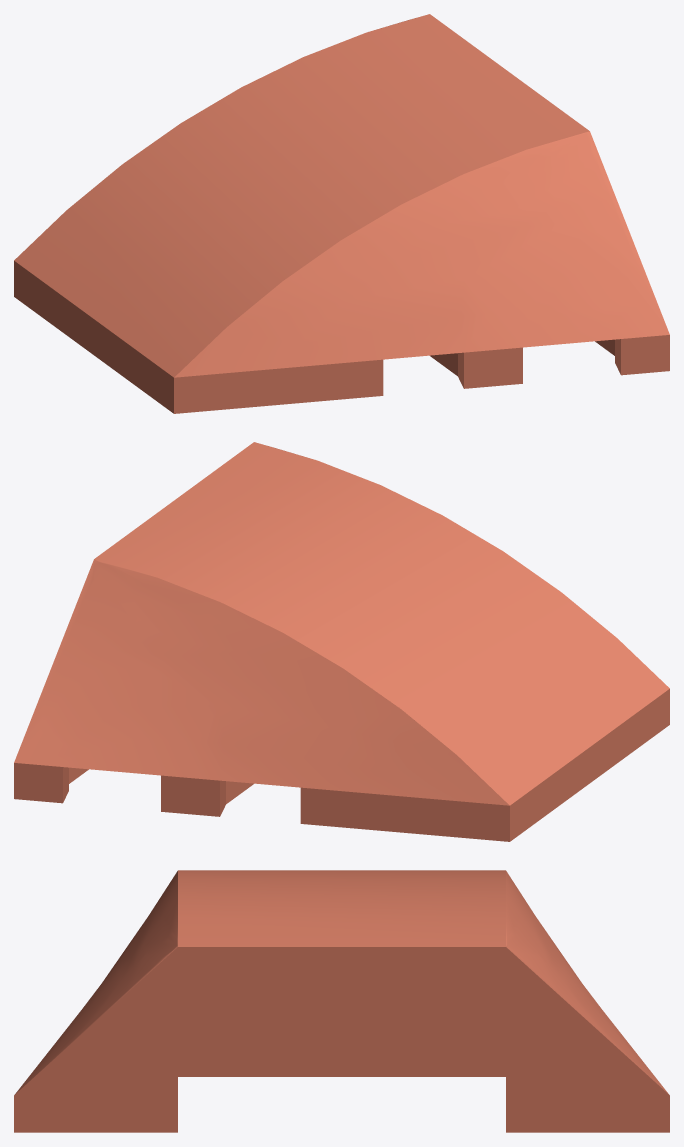
The picture shows the model from 3 angles, top to bottom: view 1: azimuth 30°, elevation 25°; view 2: azimuth 150°, elevation 25°; view 3: azimuth 270°, elevation 25°; orthographic projection. The views are drawn at different scales.
Visible parts, largest first — view 1: [pivoted]; view 2: [pivoted]; view 3: [pivoted].
Part boxes in pixels (x1,y1,x2,y2): [pivoted]: [14, 14, 669, 413]; [pivoted]: [14, 442, 669, 841]; [pivoted]: [14, 870, 669, 1132].
Size of the model in its own units: 2.4 by 1 by 3.2.
